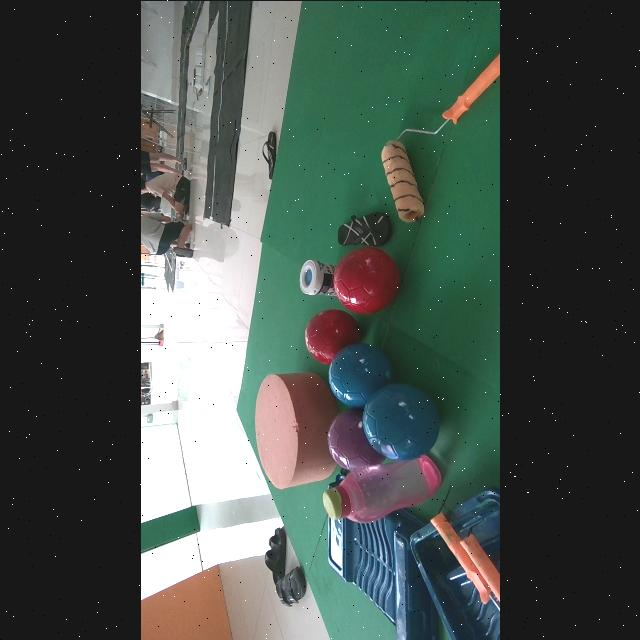B: (363, 383, 439, 460), (329, 342, 392, 407)
P: (327, 408, 384, 470)
R: (334, 246, 399, 313), (305, 308, 360, 364)
